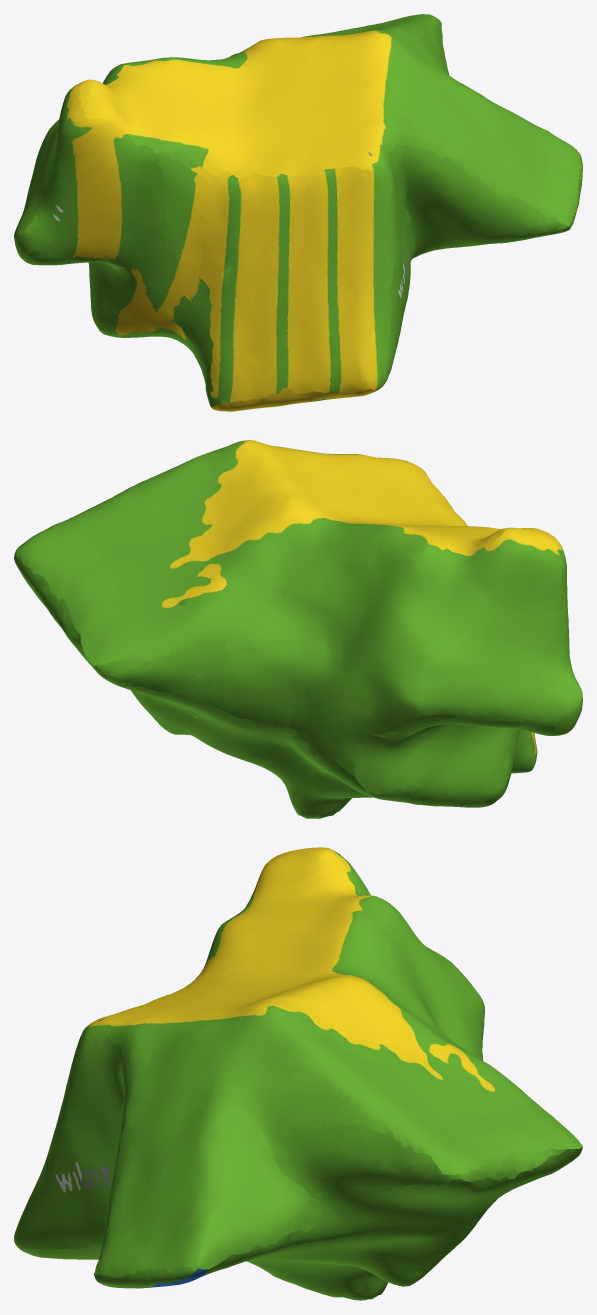
Rendered from mountain.glb.
3 views of the same model, one above another, from view 1: azimuth 30°, elevation 25°; view 2: azimuth 150°, elevation 25°; view 3: azimuth 270°, elevation 25° (orthographic). The views are drawn at different scales.
Visible parts, largest first — view 1: geometry_0; view 2: geometry_0; view 3: geometry_0.
Part boxes in pixels (x1,y1,x2,y2): geometry_0: (14,14,582,411); geometry_0: (14,440,582,818); geometry_0: (14,847,582,1300).
Size of the model in its own units: 1.02 by 0.5586 by 0.8309.
1 material, 1 textured.
